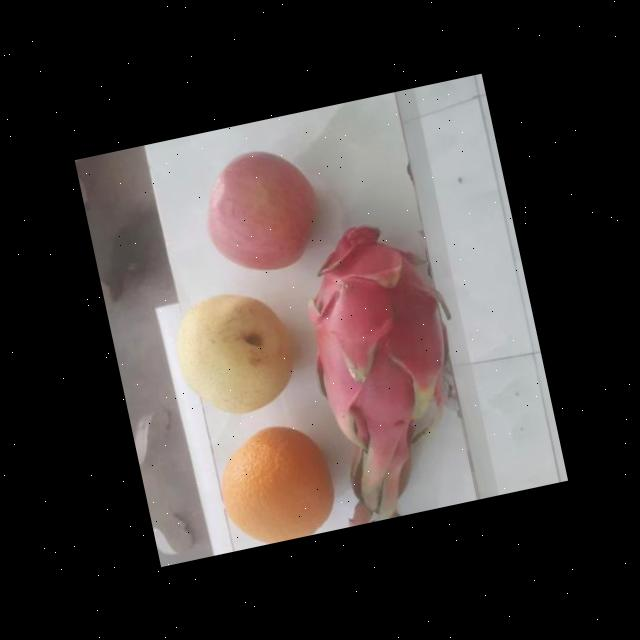apple: (190, 137, 322, 280)
orange: (208, 412, 338, 551)
pear: (165, 278, 301, 428)
pitaya: (283, 208, 467, 476)
